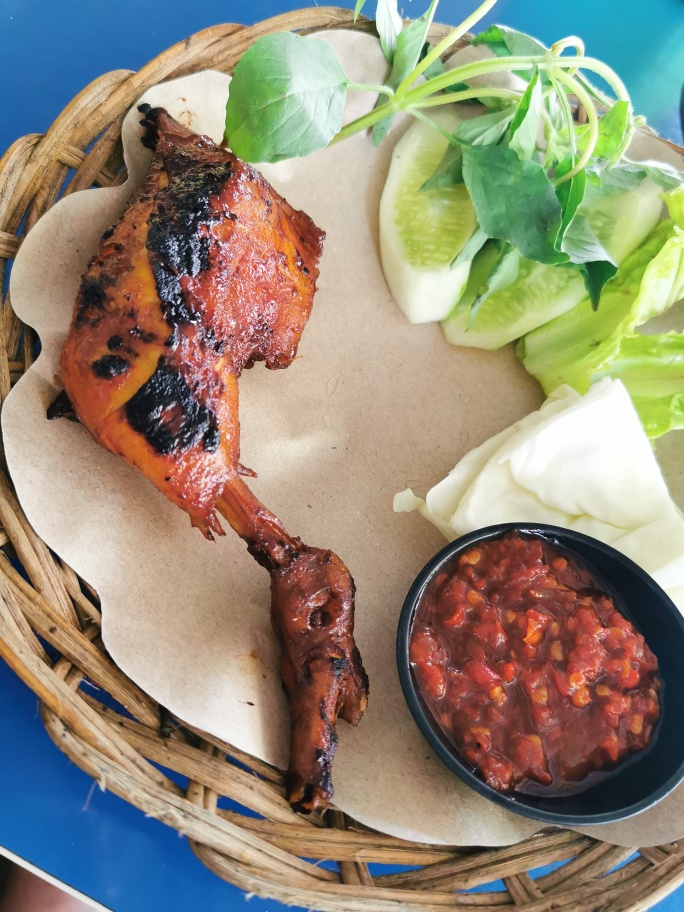ayam bakar: (58, 91, 407, 819)
